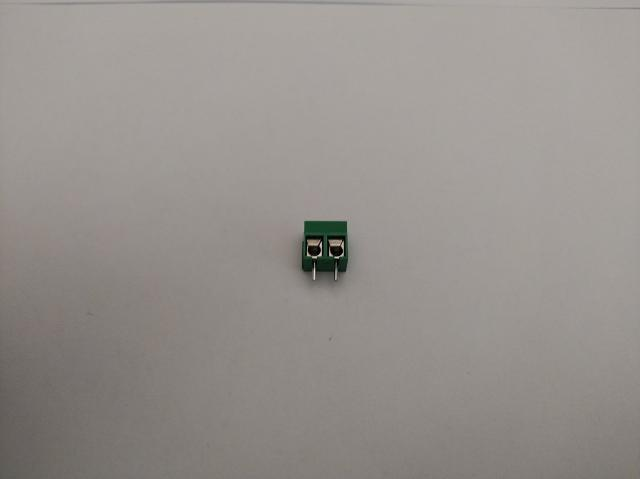terminal_block: (302, 220, 348, 282)
